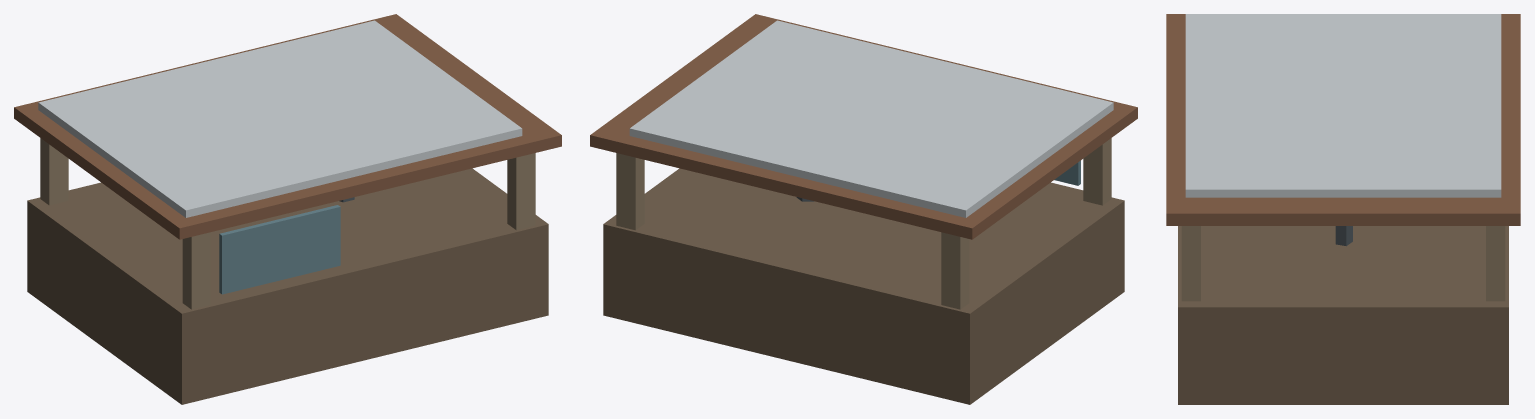
Rendered from sunken_wheelhouse.glb.
3 views of the same model, side by side, from view 1: azimuth 30°, elevation 25°; view 2: azimuth 150°, elevation 25°; view 3: azimuth 270°, elevation 25° (orthographic). The views are drawn at different scales.
Visible parts, largest first — view 1: sunken_wheelhouse; view 2: sunken_wheelhouse; view 3: sunken_wheelhouse.
Boxes of the visible parts, bbox=[...] form: sunken_wheelhouse: bbox=[14, 14, 561, 404]; sunken_wheelhouse: bbox=[590, 14, 1137, 404]; sunken_wheelhouse: bbox=[1166, 14, 1520, 404].
Size of the model in its own units: 4 by 1.9 by 3.
